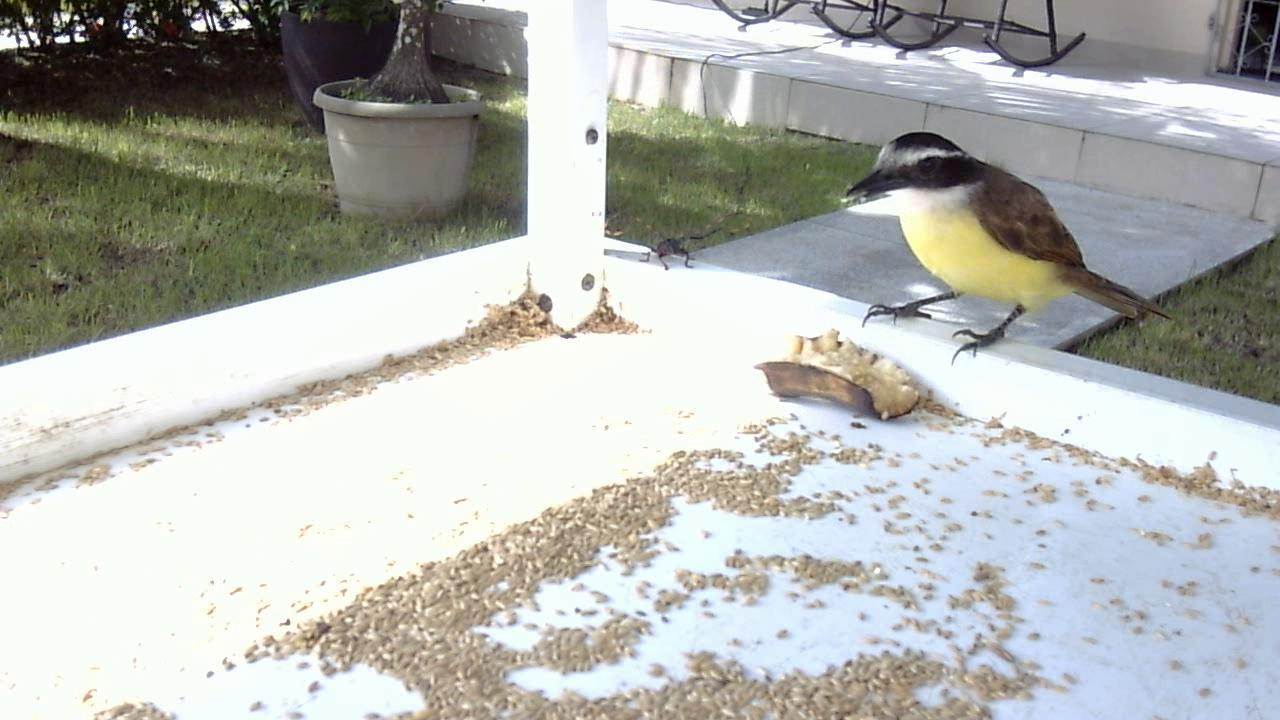bem_te_vi: (829, 124, 1182, 381)
